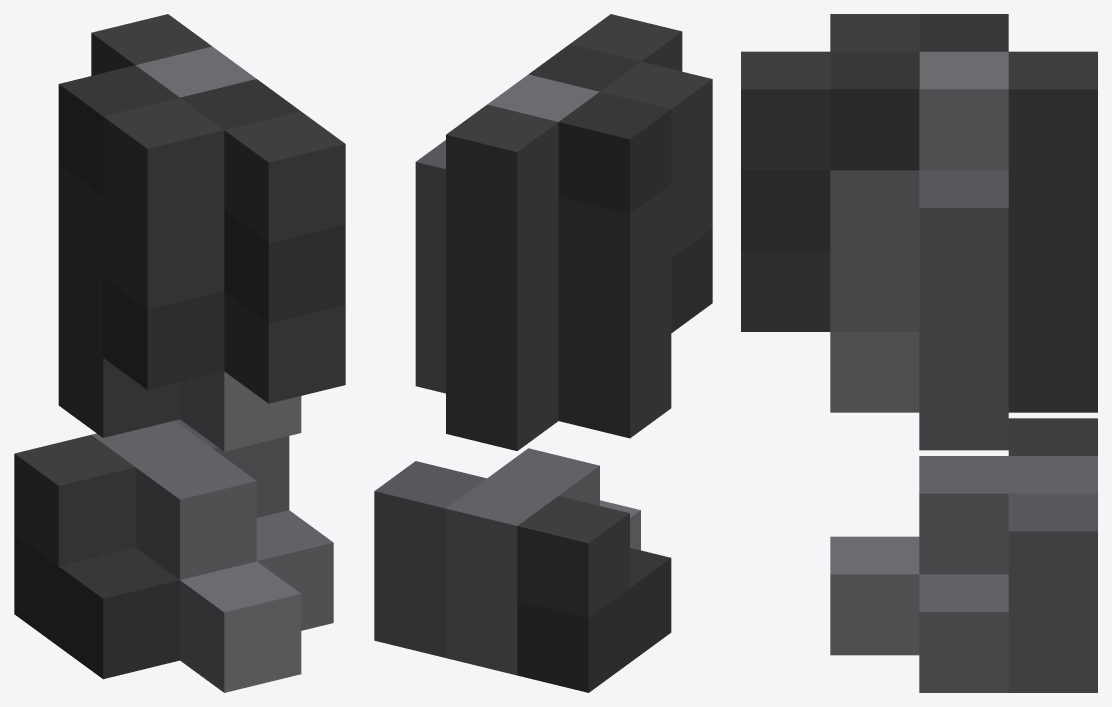
Rendered from wolfneonLegRightBack.obj.
The picture shows the model from 3 angles, left to right: view 1: azimuth 30°, elevation 25°; view 2: azimuth 150°, elevation 25°; view 3: azimuth 270°, elevation 25°; orthographic projection. The views are drawn at different scales.
Parts seen in each view (by area): view 1: wolfneonLegRightBack; view 2: wolfneonLegRightBack; view 3: wolfneonLegRightBack.
Part boxes in pixels (left/top/right/bottom): wolfneonLegRightBack: left=14, top=14, right=345, bottom=692; wolfneonLegRightBack: left=374, top=14, right=712, bottom=692; wolfneonLegRightBack: left=741, top=14, right=1097, bottom=692.
Bounding box in the file's own units: 3 × 7 × 4.
1 material, 1 textured.
